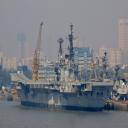Portanaves: (11, 40, 115, 114)
